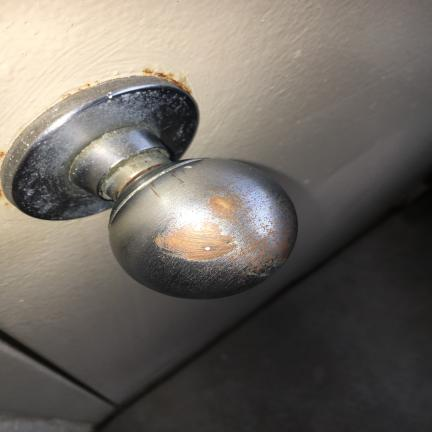besi_tidak_karat: (2, 77, 198, 220), (116, 161, 289, 287)
